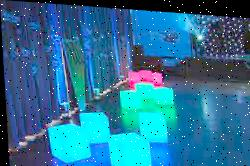cube: (47, 120, 90, 164), (109, 129, 150, 166), (138, 109, 167, 139)
